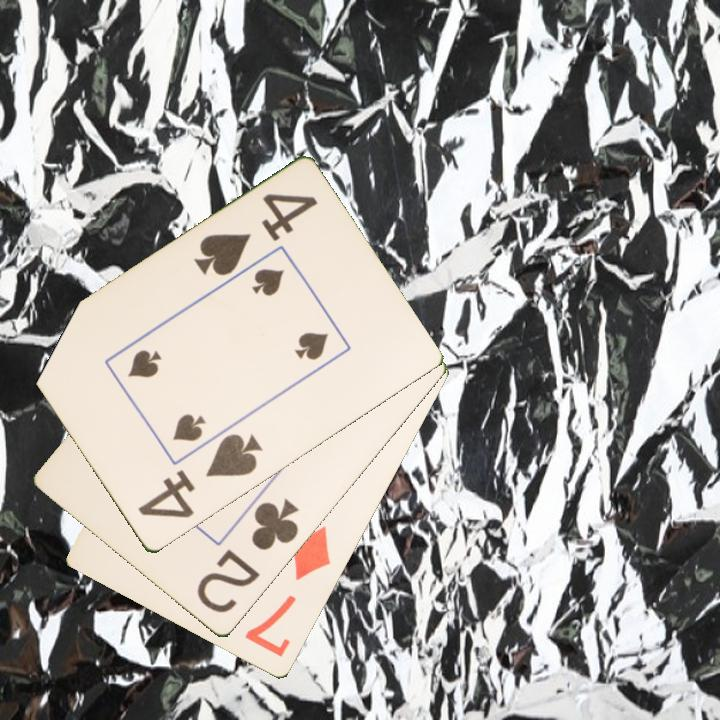2c: (193, 496, 302, 617)
4s: (134, 430, 265, 522), (190, 190, 321, 280)
7d: (241, 523, 334, 661)
